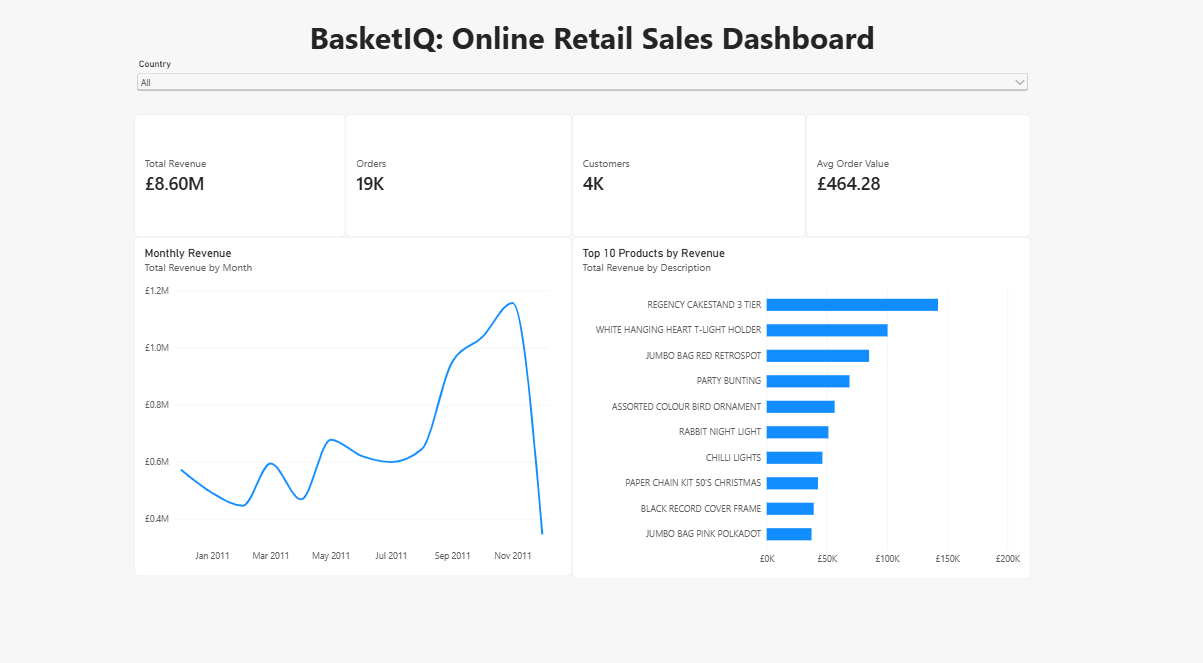

What the dashboard file says about the page in this screenshot:
{"tool":"powerbi","page":{"name":"Page 1","canvas":[1920,1080],"ordinal":0},"visuals":[{"type":"cardVisual","fields":{"Data":["basketiq_clean.Total Revenue"]},"box":[214.7,190.9,336.4,195.6],"z":0},{"type":"cardVisual","fields":{"Data":["basketiq_clean.Orders"]},"box":[551.1,190.9,360.3,195.6],"z":1},{"type":"cardVisual","fields":{"Data":["basketiq_clean.Customers"]},"box":[911.4,190.9,372.2,195.6],"z":2},{"type":"cardVisual","fields":{"Data":["basketiq_clean.Avg Order Value"]},"box":[1283.6,190.9,357.9,195.6],"z":3},{"type":"lineChart","title":"Monthly Revenue","fields":{"Category":["basketiq_clean.Month"],"Y":["basketiq_clean.Total Revenue"]},"box":[214.7,386.5,696.7,539.2],"z":4},{"type":"clusteredBarChart","title":"Top 10 Products by Revenue","fields":{"Category":["basketiq_clean.Description"],"Y":["basketiq_clean.Total Revenue"]},"box":[911.4,386.5,730.1,544],"z":5},{"type":"slicer","fields":{"Values":["basketiq_clean.Country"]},"box":[214.7,102.6,1426.8,88.3],"z":6},{"type":"textbox","box":[50.1,35.8,1787.1,90.7],"z":7}]}

Visuals, with their boxes in screenshot pixels (x1, y1, x2, y2), scaled from the page's 1920x1080 canvas onto the 1203x663 screenshot:
cardVisual - basketiq_clean.Total Revenue: 135/117/345/237
cardVisual - basketiq_clean.Orders: 345/117/571/237
cardVisual - basketiq_clean.Customers: 571/117/804/237
cardVisual - basketiq_clean.Avg Order Value: 804/117/1029/237
"Monthly Revenue" lineChart: 135/237/571/568
"Top 10 Products by Revenue" clusteredBarChart: 571/237/1029/571
slicer - basketiq_clean.Country: 135/63/1029/117
textbox: 31/22/1151/78
